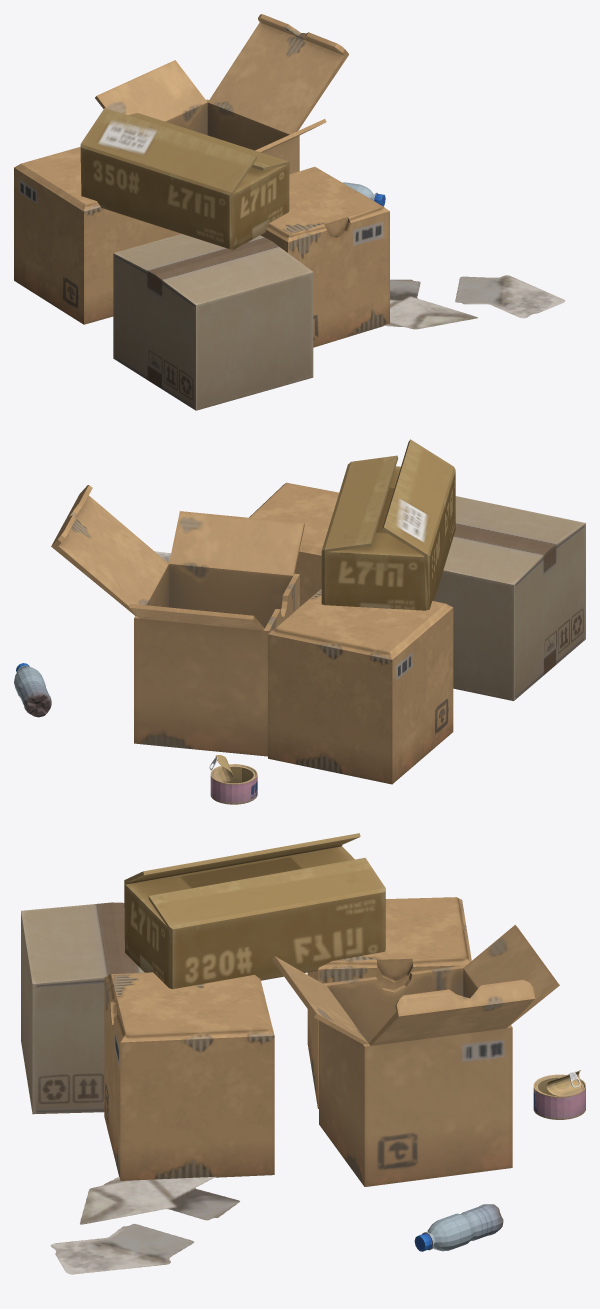
The model's file is WarehouseManager_12.obj.
3 renders of one model, top to bottom at view 1: azimuth 30°, elevation 25°; view 2: azimuth 150°, elevation 25°; view 3: azimuth 270°, elevation 25°, orthographic. The views are drawn at different scales.
Size of the model in its own units: 2.38 by 1.04 by 2.22.
10 materials, 10 textured.
